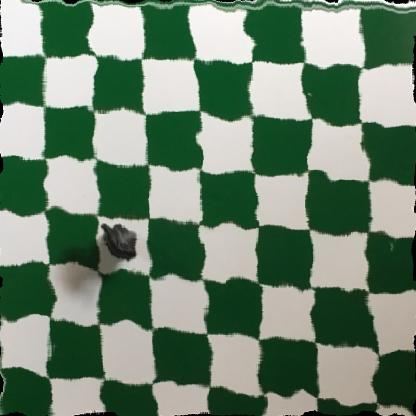black-knight: (97, 220, 146, 265)
